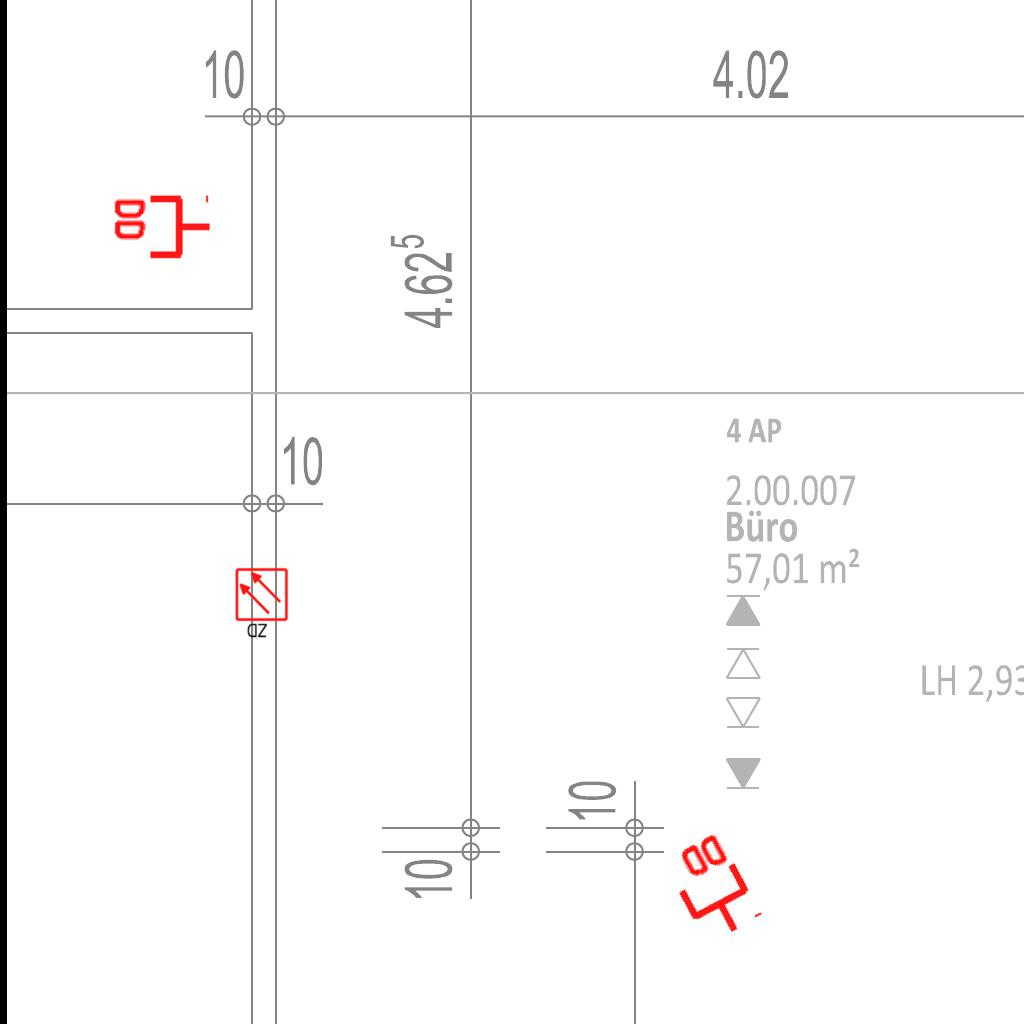Datenanschluss_zweifach: (655, 826, 766, 951), (110, 194, 213, 263)
ZD_Melder_in_Zwischendecke_mit_Revisionsoeffnung_mind_40_x_40_cm: (234, 567, 291, 641)
